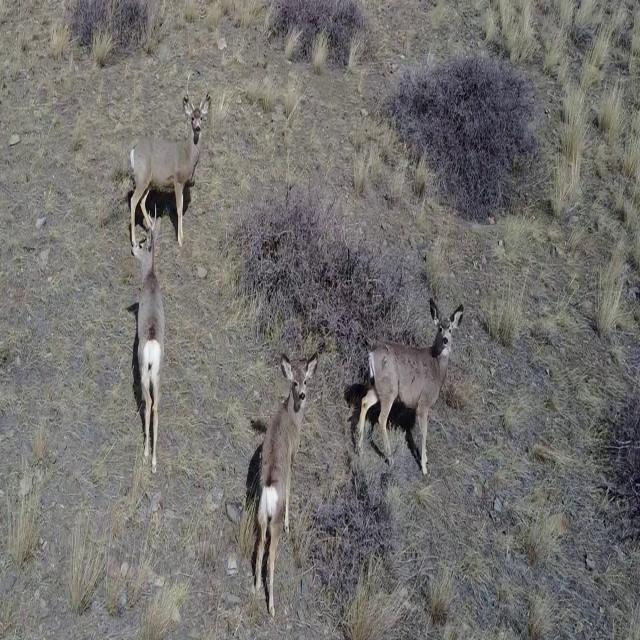Deer: (354, 297, 464, 479), (250, 348, 320, 618), (127, 75, 211, 249), (126, 205, 178, 476)
